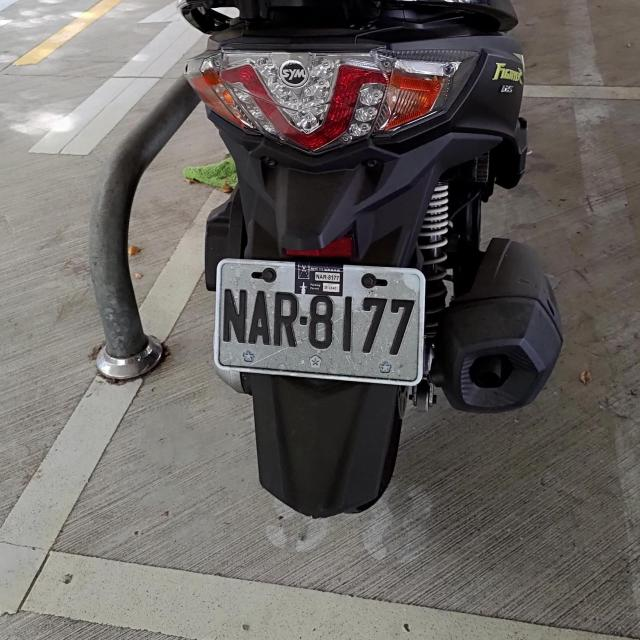W: (210, 255, 427, 383)
